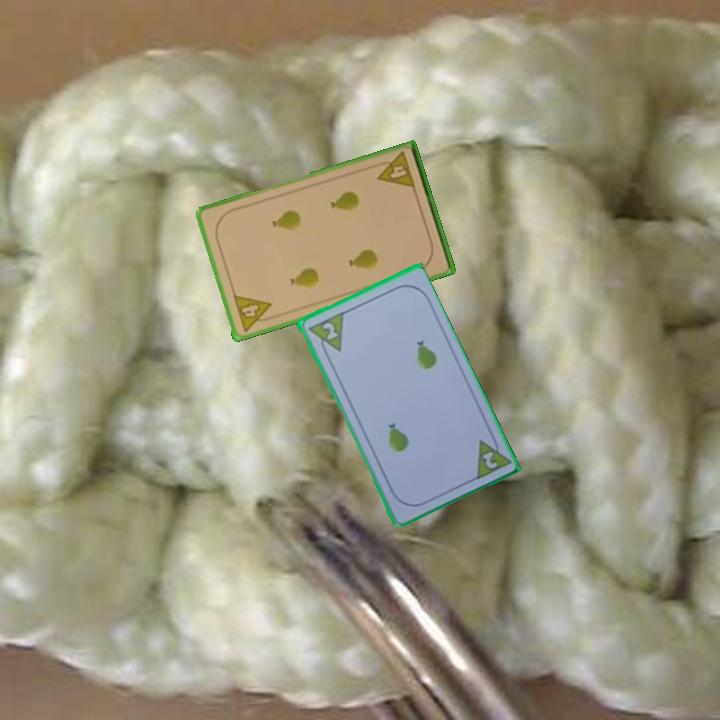2p: (303, 308, 346, 360), (470, 430, 512, 483)
4p: (230, 291, 277, 335), (371, 148, 418, 192)
